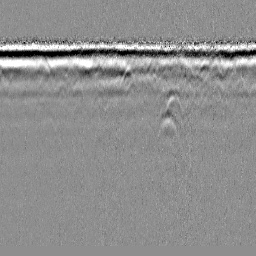cavity: (120, 63, 136, 87)
